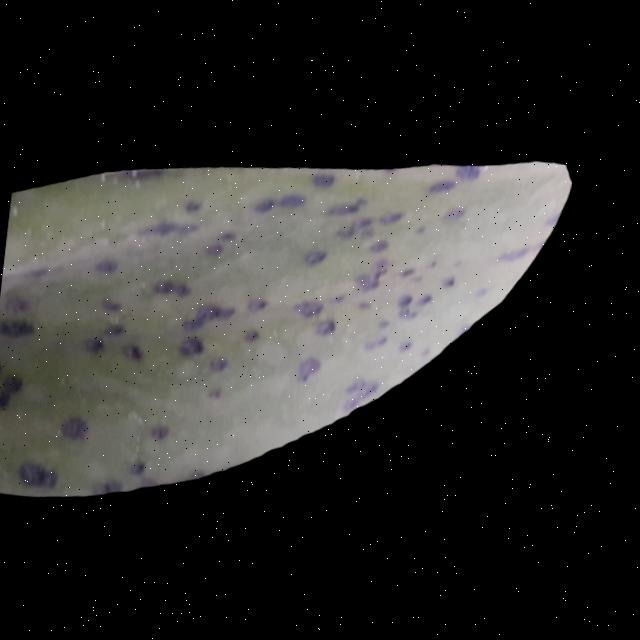mite: (0, 246, 244, 515), (0, 287, 43, 421), (0, 358, 28, 417), (15, 459, 61, 492), (0, 372, 26, 416), (0, 316, 37, 343), (176, 331, 208, 359), (309, 167, 337, 190), (302, 243, 329, 266), (82, 334, 107, 357), (120, 341, 146, 363), (93, 255, 120, 276), (1, 374, 25, 395), (0, 389, 14, 414), (0, 361, 5, 382)
sunburn: (0, 80, 574, 571)
